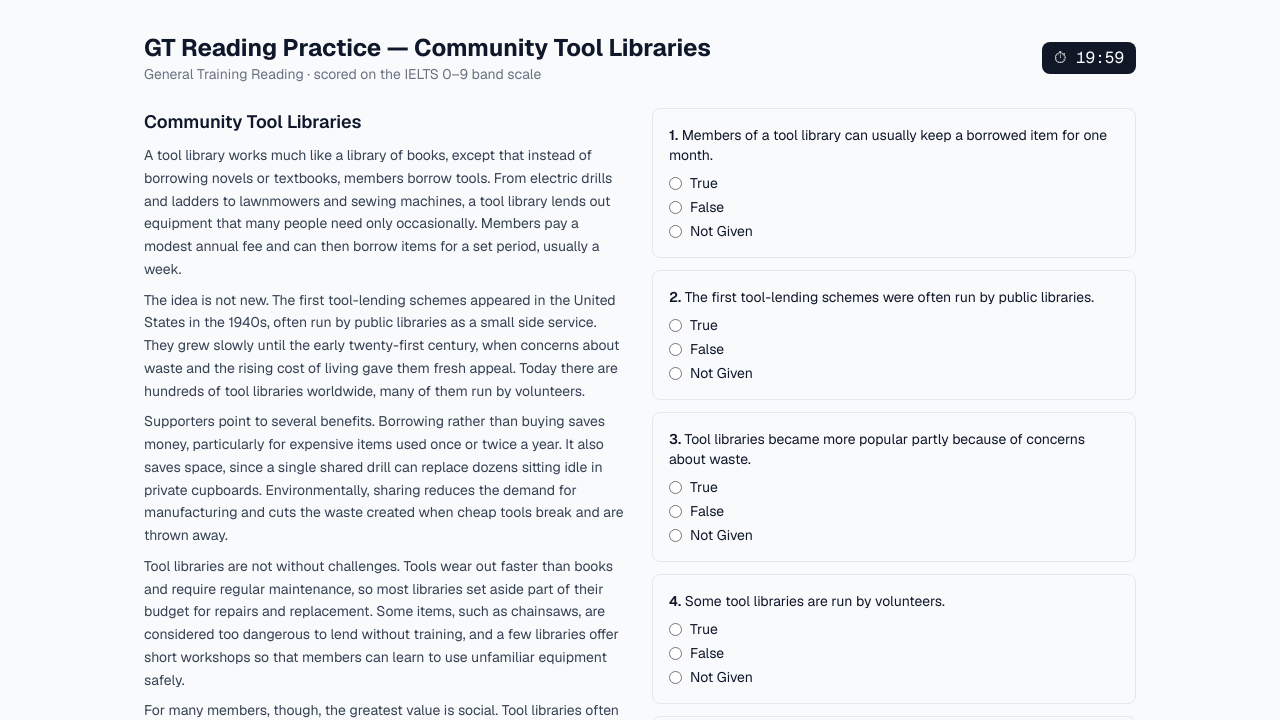
Test case: ReadingRunner › counts down and is NOT reset by answering questions
This screenshot has width=1280, height=720.
expect the text "⏱ 19:59" is shown: met, box [1042,42,1136,74]
Changing an answer must NOT reset the countdown.
Click the 1st radio button labelled "True".
click(676, 183)  # box [669,176,682,190]
Wait 1000 ms
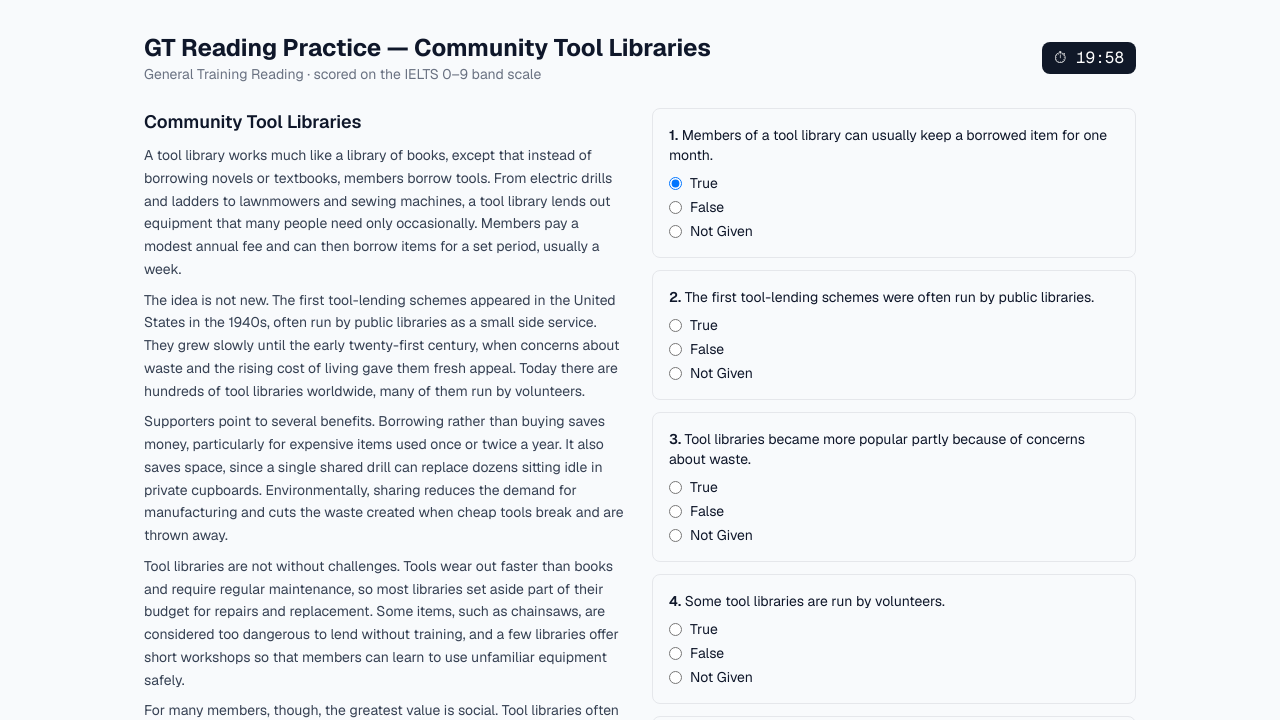
expect the text "⏱ 19:58" is shown: met, box [1042,42,1136,74]
